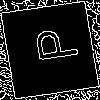P: (24, 24, 80, 65)
